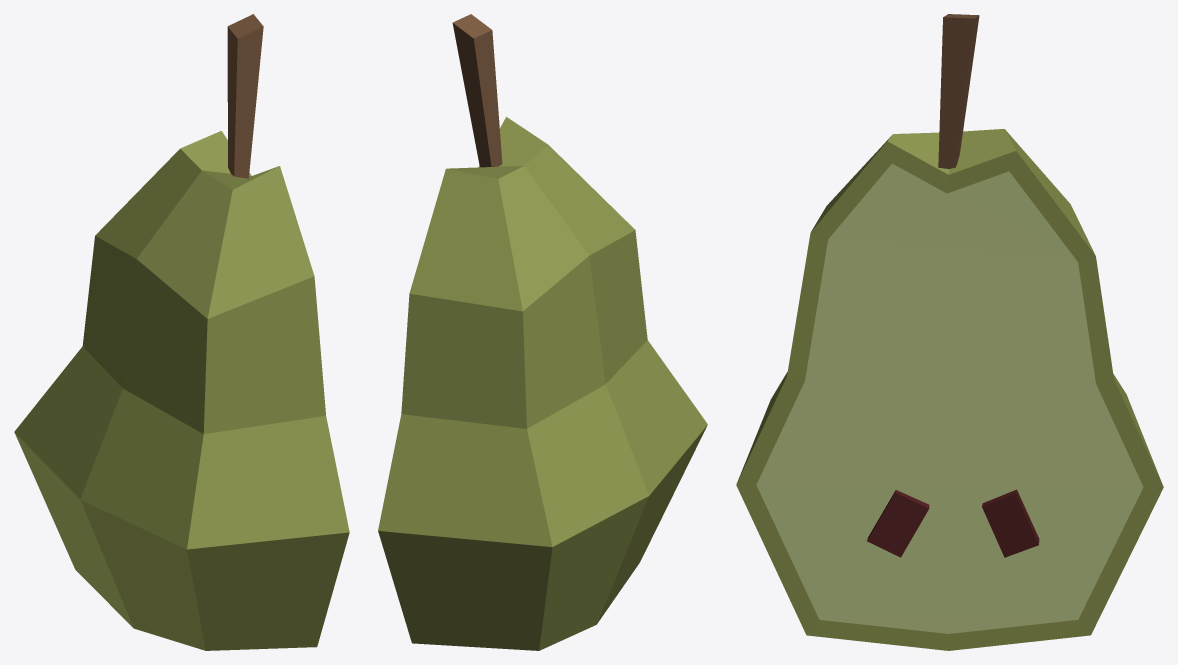
File: pearHalf.fbx
The picture shows the model from 3 angles, left to right: view 1: azimuth 30°, elevation 25°; view 2: azimuth 150°, elevation 25°; view 3: azimuth 270°, elevation 25°; orthographic projection. The views are drawn at different scales.
Parts seen in each view (by area): view 1: pearHalf; view 2: pearHalf; view 3: pearHalf.
Boxes of the visible parts, left/top/right/bottom form: pearHalf: left=14, top=14, right=349, bottom=650; pearHalf: left=378, top=14, right=707, bottom=650; pearHalf: left=736, top=14, right=1163, bottom=650.
Size of the model in its own units: 5.26 by 16.04 by 9.72.
1 material, 1 textured.
